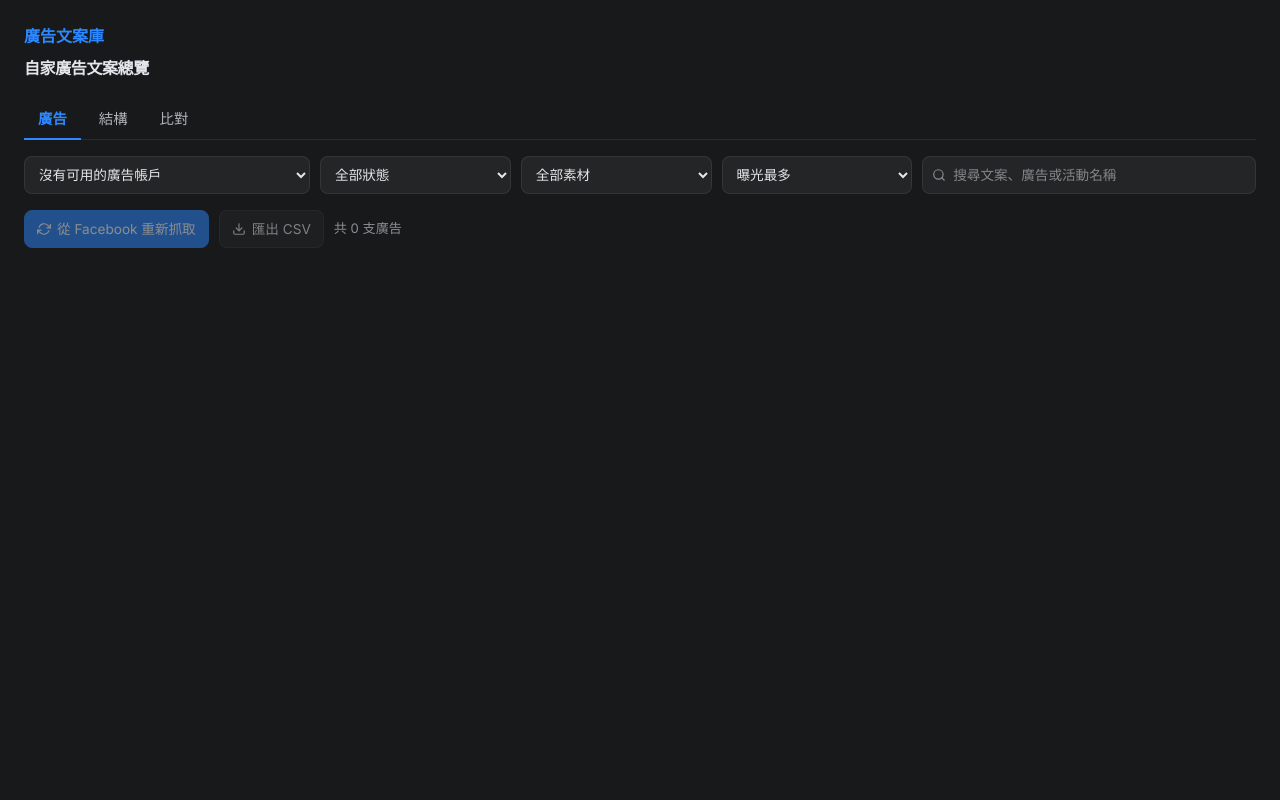
Scenario: AdLibrary › opens the AI panel with the saved analysis and a stale notice
The width and height of the screenshot is (1280, 800).
Step 1. Click the tab "結構" → coordinates (113, 120), box [85,100,142,140]
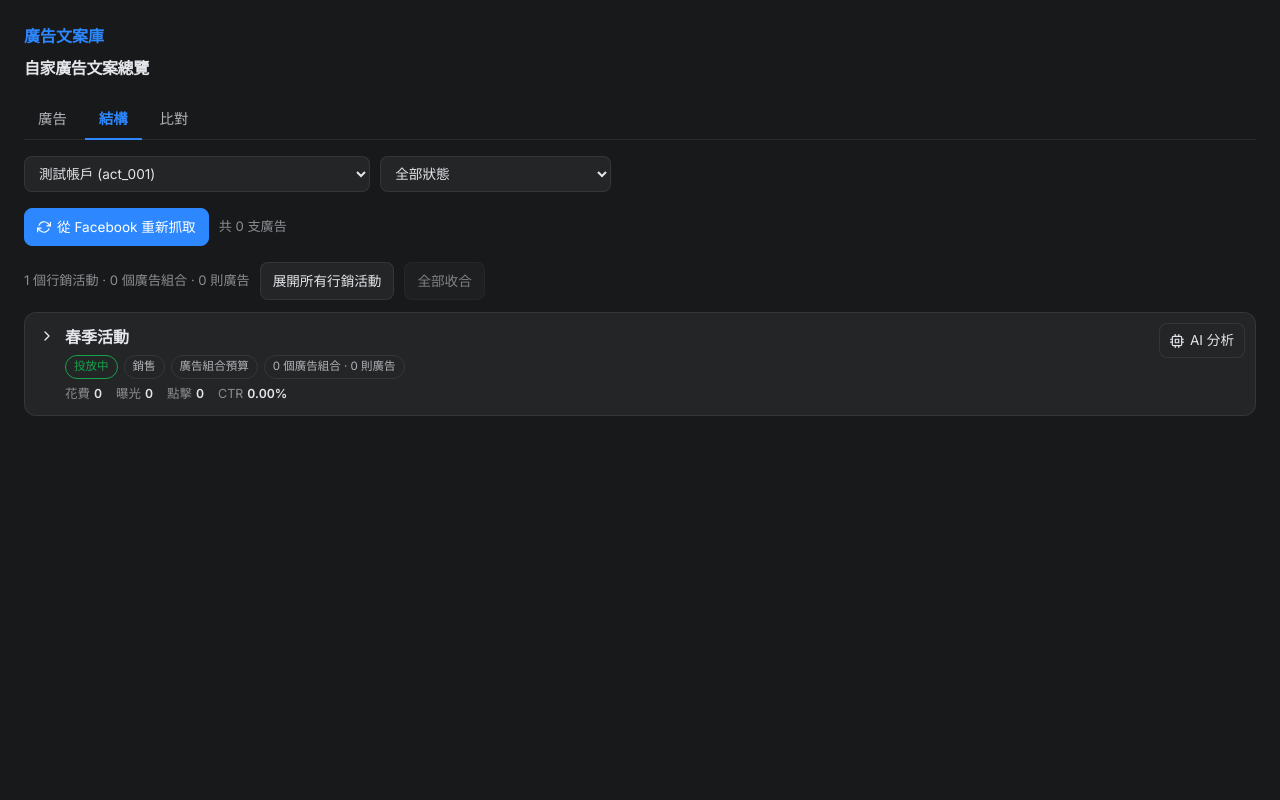
Step 2. Click the button with aria-label "AI 分析：春季活動" → coordinates (1202, 341), box [1159,323,1245,358]
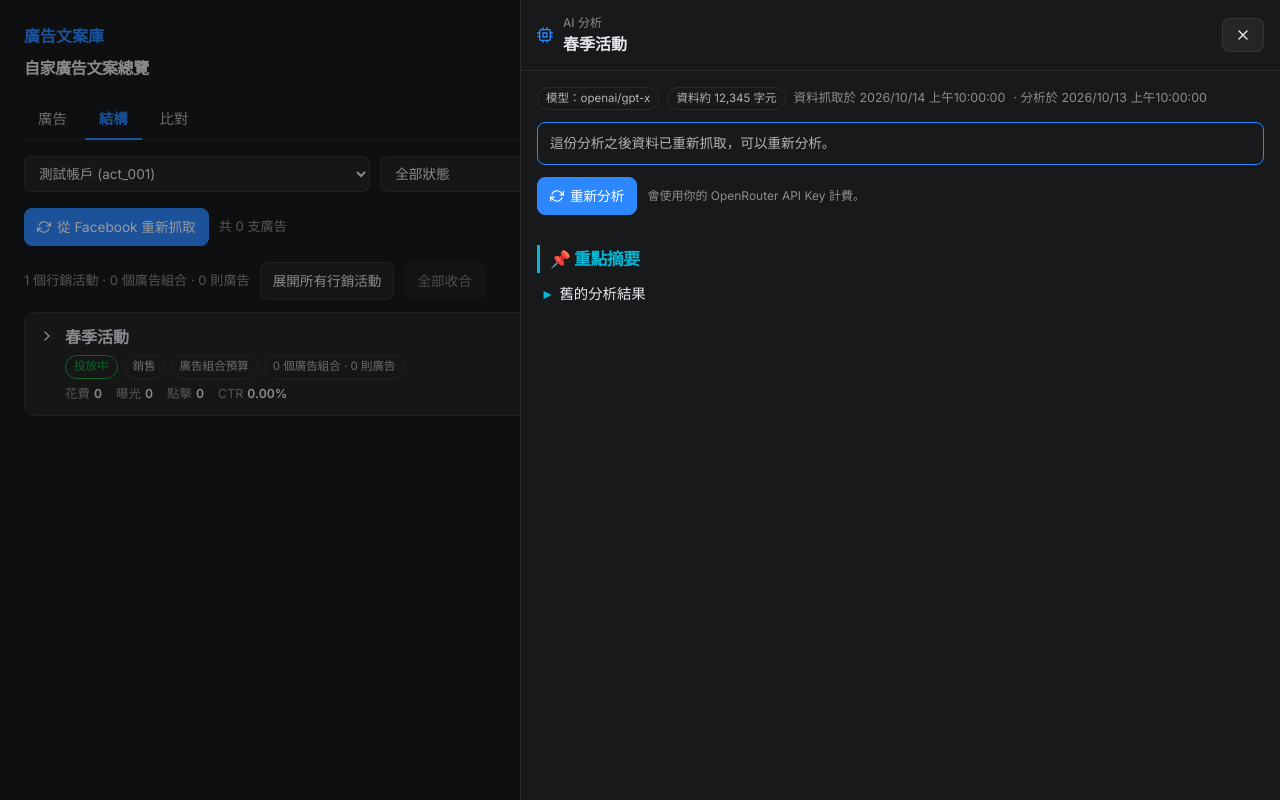
Expected: the list item "舊的分析結果" is shown, [559,285,646,302]
Expected: the heading "📌 重點摘要" is shown, [537,245,1264,273]
Expected: the text "這份分析之後資料已重新抓取，可以重新分析。" is shown, [537,122,1264,165]
Step 3. Click the button named "關閉" → coordinates (1243, 35), box [1222,18,1264,52]
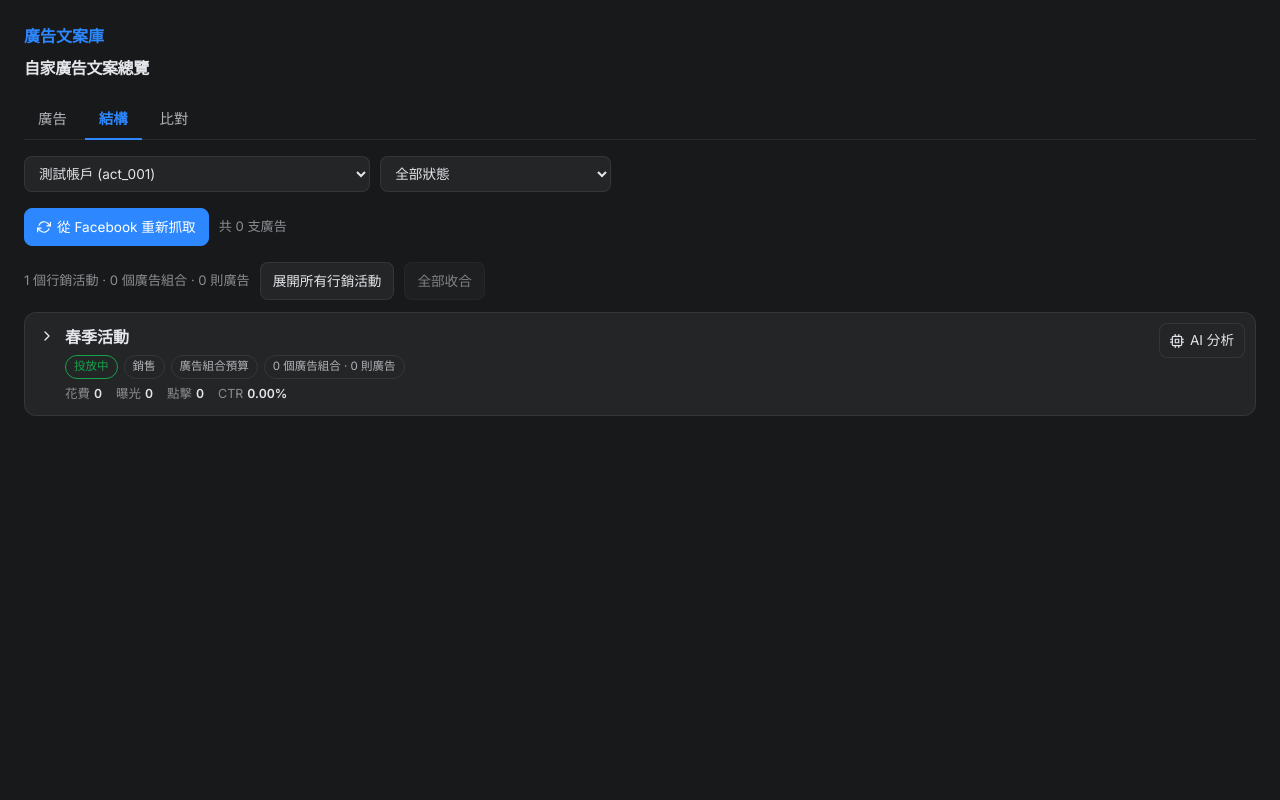
Expected: the dialog is gone
